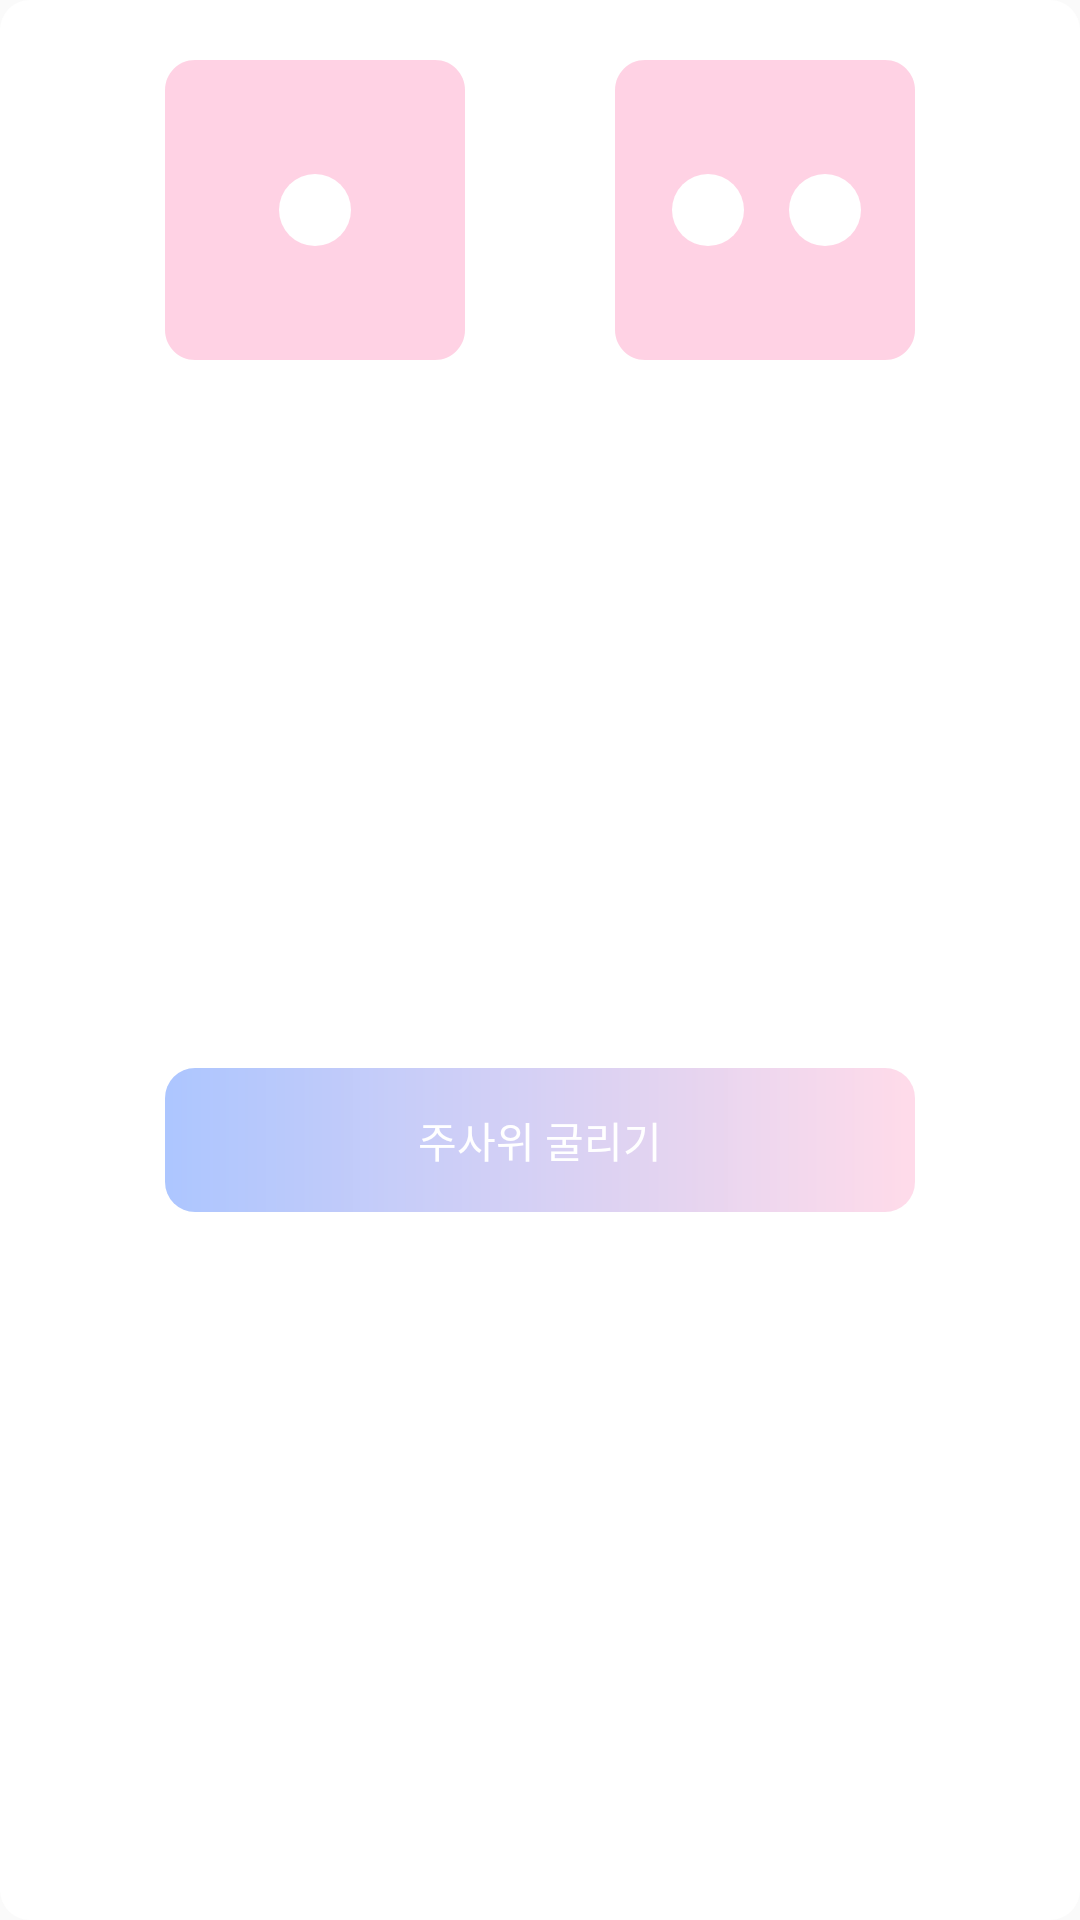

Icon click points for this 1080×1920 phone screenshot, format [x,y]:
dice: [315,210], [765,210]
